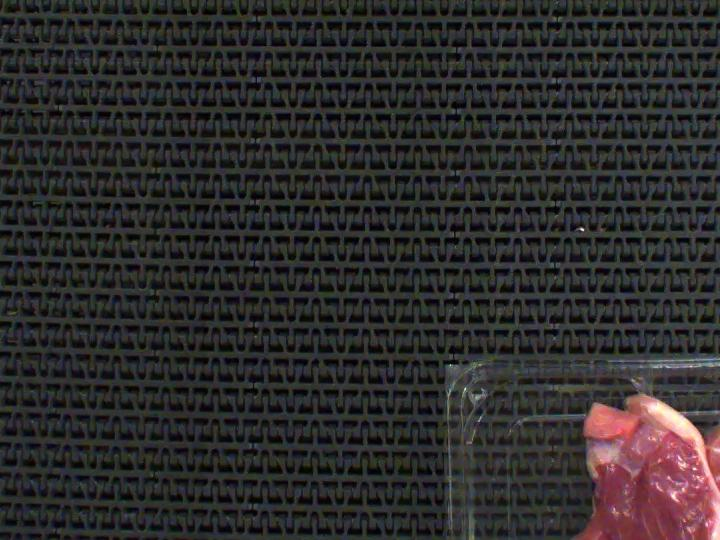packaging-error: (619, 367, 656, 397)
